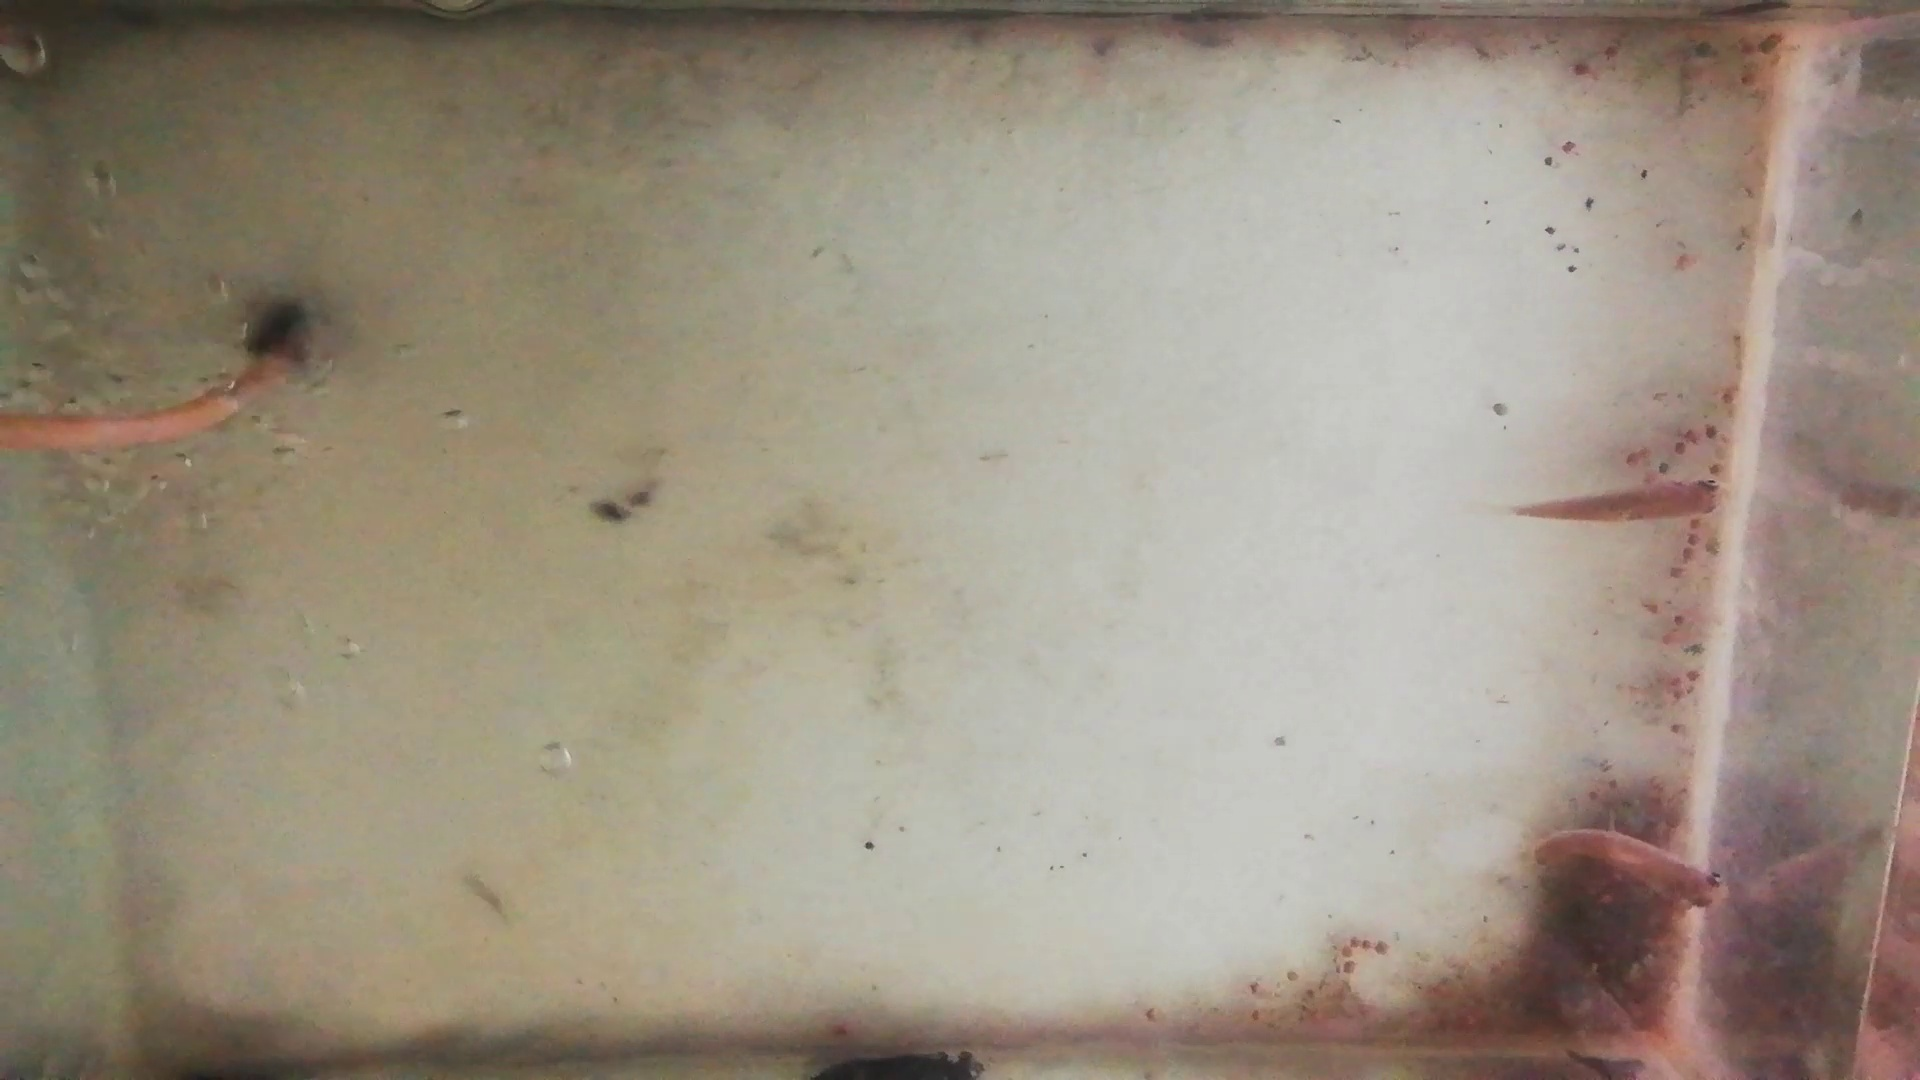fish: (1530, 825, 1730, 913), (1510, 477, 1733, 524)
